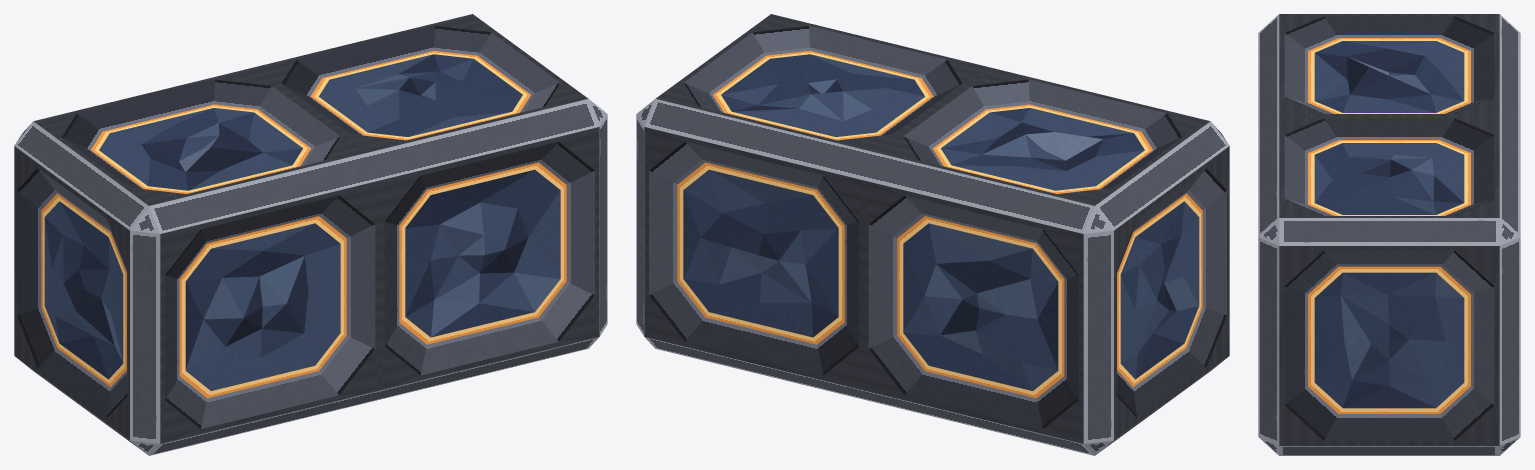
The model's file is marlit_long.glb.
The picture shows the model from 3 angles, left to right: view 1: azimuth 30°, elevation 25°; view 2: azimuth 150°, elevation 25°; view 3: azimuth 270°, elevation 25°; orthographic projection. The views are drawn at different scales.
Parts seen in each view (by area): view 1: marlit_long_body; view 2: marlit_long_body; view 3: marlit_long_body.
Part boxes in pixels (<box>): marlit_long_body: <box>14,14,607,455</box>; marlit_long_body: <box>636,14,1229,455</box>; marlit_long_body: <box>1258,14,1520,455</box>.
Size of the model in its own units: 4 by 2 by 2.
1 material, 1 textured.
